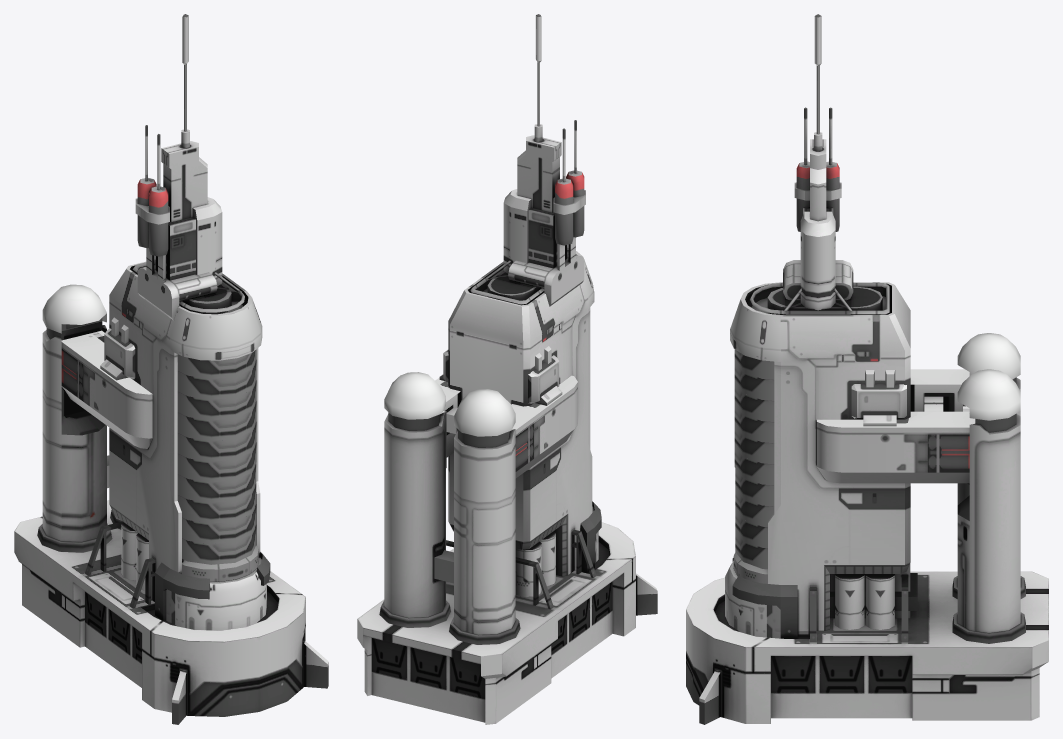
The model's file is oil-refinery.glb.
The picture shows the model from 3 angles, left to right: view 1: azimuth 30°, elevation 25°; view 2: azimuth 150°, elevation 25°; view 3: azimuth 270°, elevation 25°; orthographic projection. The views are drawn at different scales.
Parts seen in each view (by area): view 1: oil-refinery, oil-refinery-g, oil-refinery-i, oil-refinery-f, oil-refinery-j, oil-refinery-h, oil-refinery-e, oil-refinery-d, oil-refinery-b, oil-refinery-c, oil-refinery-k; view 2: oil-refinery; view 3: oil-refinery, oil-refinery-f, oil-refinery-h, oil-refinery-j, oil-refinery-g, oil-refinery-i, oil-refinery-e, oil-refinery-d, oil-refinery-k, oil-refinery-b, oil-refinery-c.
Part boxes in pixels (x1,y1,x2,y2): oil-refinery: (14, 14, 328, 724); oil-refinery-g: (177, 421, 256, 461); oil-refinery-i: (177, 380, 256, 420); oil-refinery-f: (177, 442, 256, 482); oil-refinery-j: (177, 359, 256, 399); oil-refinery-h: (177, 401, 256, 440); oil-refinery-e: (177, 463, 256, 502); oil-refinery-d: (177, 483, 256, 523); oil-refinery-b: (182, 525, 256, 564); oil-refinery-c: (182, 504, 256, 544); oil-refinery-k: (177, 349, 256, 378); oil-refinery: (357, 14, 657, 724); oil-refinery: (686, 14, 1048, 724); oil-refinery-f: (734, 446, 774, 485); oil-refinery-h: (734, 404, 774, 443); oil-refinery-j: (734, 362, 774, 400); oil-refinery-g: (734, 425, 774, 464); oil-refinery-i: (734, 383, 774, 421); oil-refinery-e: (735, 468, 774, 506); oil-refinery-d: (735, 489, 774, 527); oil-refinery-k: (734, 349, 774, 379); oil-refinery-b: (735, 531, 767, 569); oil-refinery-c: (735, 510, 767, 548).
Bounding box in the file's own units: 3.93 × 15.64 × 7.71.
2 materials, 2 textured.
